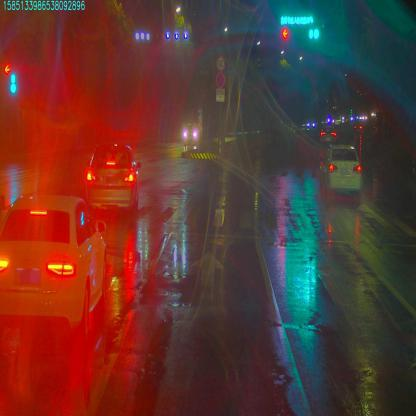traffic-light: (278, 13, 314, 28), (310, 28, 318, 41), (282, 27, 289, 38)
